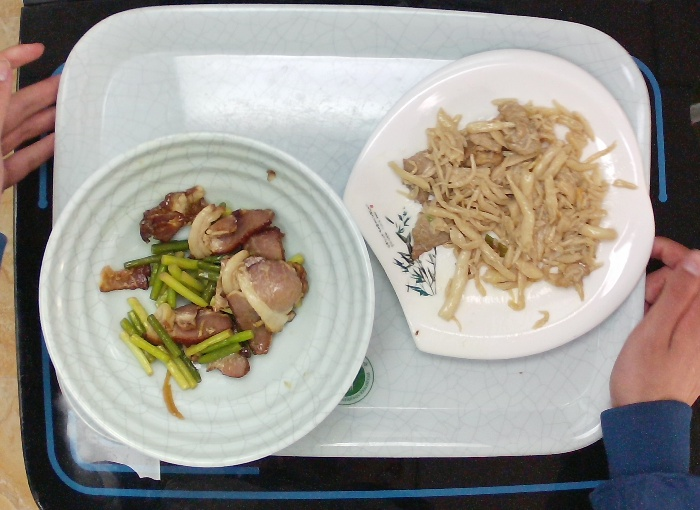JYsf-Da_Tang_Wan: (32, 127, 380, 472)
JYsf-Mian_Pan: (339, 43, 658, 365)
